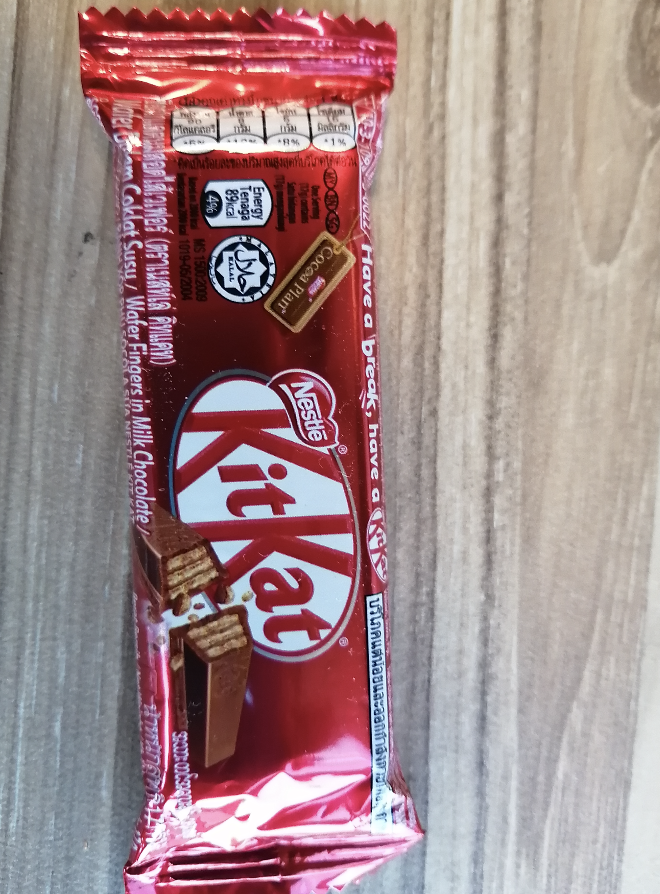Halal: (217, 240, 268, 295)
